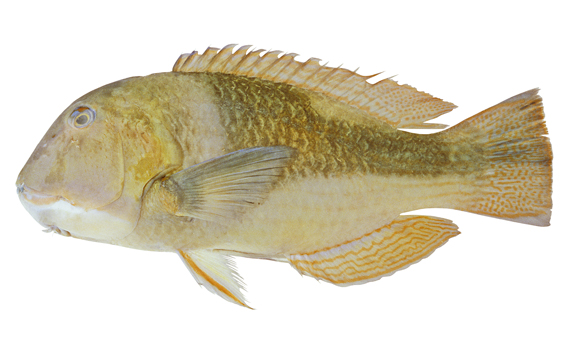fish: (17, 43, 554, 311)
